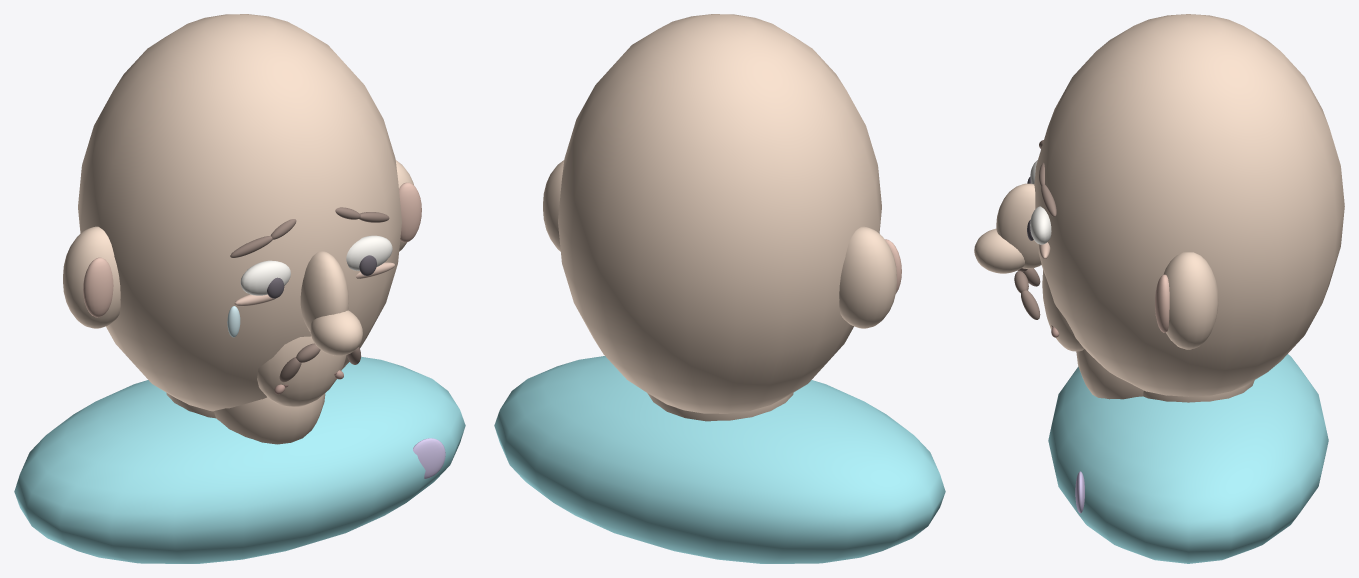
The model's file is sadness.glb.
The picture shows the model from 3 angles, left to right: view 1: azimuth 30°, elevation 25°; view 2: azimuth 150°, elevation 25°; view 3: azimuth 270°, elevation 25°; orthographic projection. The views are drawn at different scales.
Parts seen in each view (by area): view 1: Head, Cape, Muzzle_long, Long_chin, Ear_-1, Nose_bridge, Nose_tip, Ear_inner_-1, Eye_white_-1, Ear_inner_1, Eye_white_1, Emotion_badge; view 2: Head, Cape, Ear_-1, Ear_1, Neck; view 3: Head, Cape, Ear_1, Nose_bridge, Long_chin, Nose_tip, Muzzle_long, Neck, Ear_inner_1, Eye_white_1.
Part boxes in pixels (box(x1,y1,x2,y2)): Head: box(78, 14, 401, 411); Cape: box(14, 357, 465, 563); Muzzle_long: box(257, 336, 346, 406); Long_chin: box(214, 393, 325, 444); Ear_-1: box(63, 226, 120, 328); Nose_bridge: box(300, 251, 348, 331); Nose_tip: box(310, 310, 362, 355); Ear_inner_-1: box(83, 257, 113, 317); Eye_white_-1: box(240, 260, 290, 295); Ear_inner_1: box(399, 182, 421, 242); Eye_white_1: box(346, 235, 392, 270); Emotion_badge: box(413, 438, 445, 478); Head: box(558, 14, 881, 413); Cape: box(494, 356, 945, 563); Ear_-1: box(839, 226, 896, 328); Ear_1: box(543, 160, 564, 251); Neck: box(647, 392, 793, 421); Head: box(1034, 14, 1344, 396); Cape: box(1048, 354, 1328, 563); Ear_1: box(1163, 252, 1218, 349); Nose_bridge: box(996, 183, 1041, 268); Long_chin: box(1076, 349, 1143, 399); Nose_tip: box(974, 228, 1024, 273); Muzzle_long: box(1042, 270, 1084, 351); Neck: box(1143, 380, 1254, 402); Ear_inner_1: box(1155, 274, 1169, 332); Eye_white_1: box(1030, 206, 1051, 244).
Bounding box in the file's own units: 2.36 × 2.69 × 1.85.
